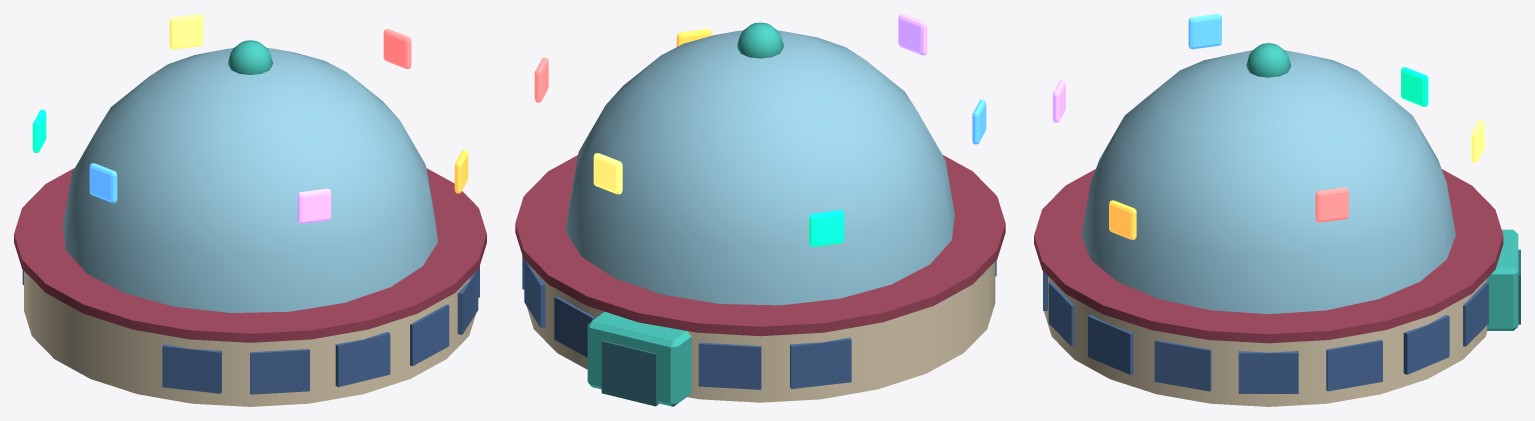
The model's file is bld_d7_c.glb.
3 views of the same model, side by side, from view 1: azimuth 30°, elevation 25°; view 2: azimuth 150°, elevation 25°; view 3: azimuth 270°, elevation 25° (orthographic). The views are drawn at different scales.
Visible parts, largest first — view 1: bld_d7_c; view 2: bld_d7_c; view 3: bld_d7_c.
Boxes of the visible parts, x1,y1,x2,y2 form: bld_d7_c: (14, 14, 486, 406); bld_d7_c: (515, 14, 1005, 406); bld_d7_c: (1034, 14, 1520, 406).
Size of the model in its own units: 18.8 by 11.8 by 19.5.
